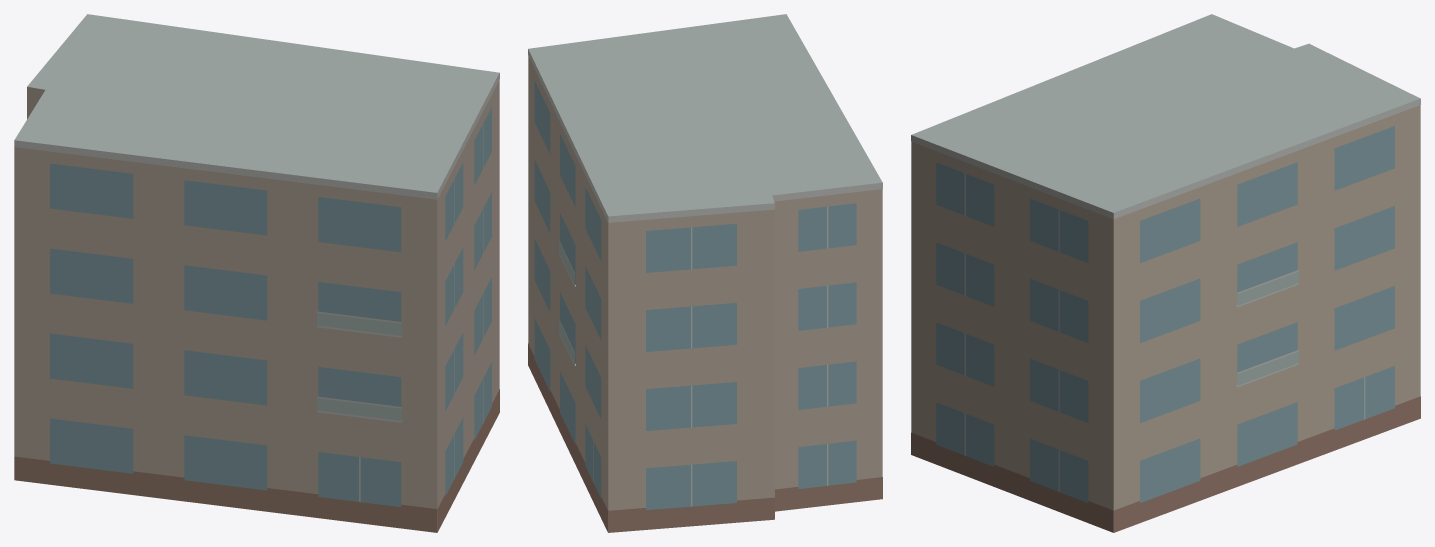
Rendered from survey-upis-32586985.glb.
The picture shows the model from 3 angles, left to right: view 1: azimuth 30°, elevation 25°; view 2: azimuth 150°, elevation 25°; view 3: azimuth 270°, elevation 25°; orthographic projection. The views are drawn at different scales.
Parts seen in each view (by area): view 1: survey-upis-32586985.tmp; view 2: survey-upis-32586985.tmp; view 3: survey-upis-32586985.tmp.
Part boxes in pixels (x1,y1,x2,y2): survey-upis-32586985.tmp: (14,14,499,532); survey-upis-32586985.tmp: (528,14,882,532); survey-upis-32586985.tmp: (911,14,1420,532).
Size of the model in its own units: 16.28 by 12.2 by 17.62.
